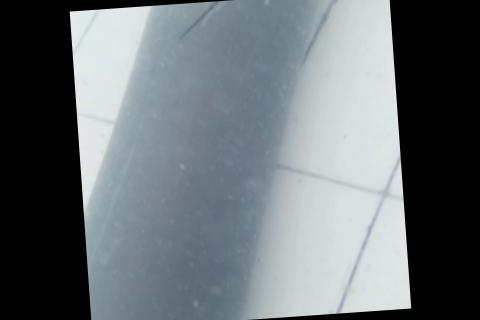keretakan: (172, 0, 300, 38)
